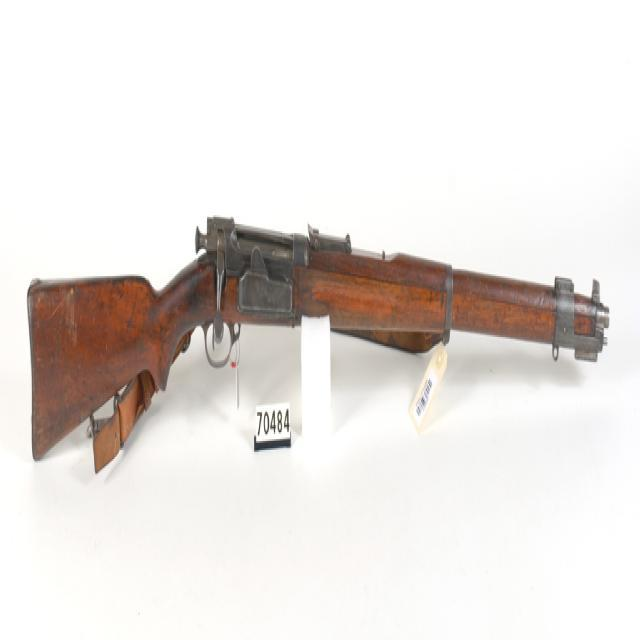weapon: (25, 208, 611, 474)
